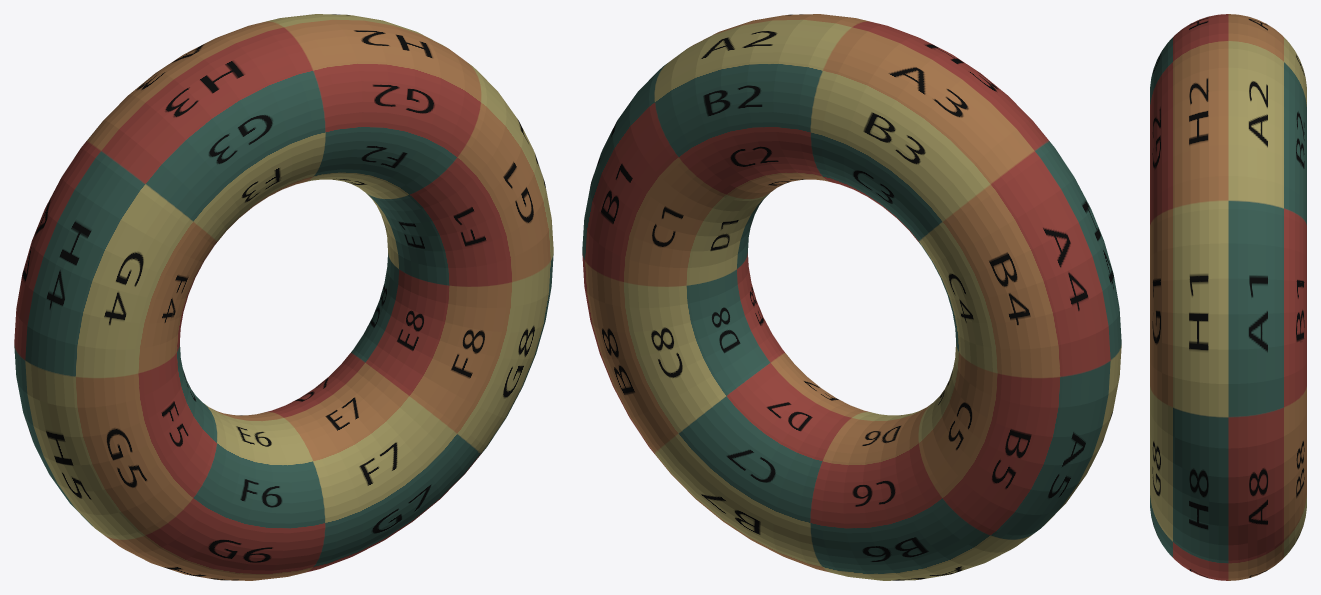
The model's file is texture_torus_R22_r28.glb.
The picture shows the model from 3 angles, left to right: view 1: azimuth 30°, elevation 25°; view 2: azimuth 150°, elevation 25°; view 3: azimuth 270°, elevation 25°; orthographic projection. The views are drawn at different scales.
Parts seen in each view (by area): view 1: world; view 2: world; view 3: world.
Part boxes in pixels (bbox=[...]): world: bbox=[14, 14, 553, 580]; world: bbox=[582, 14, 1121, 580]; world: bbox=[1150, 14, 1306, 580].
Bounding box in the file's own units: 34.13 × 34.07 × 9.45.
1 material, 1 textured.
